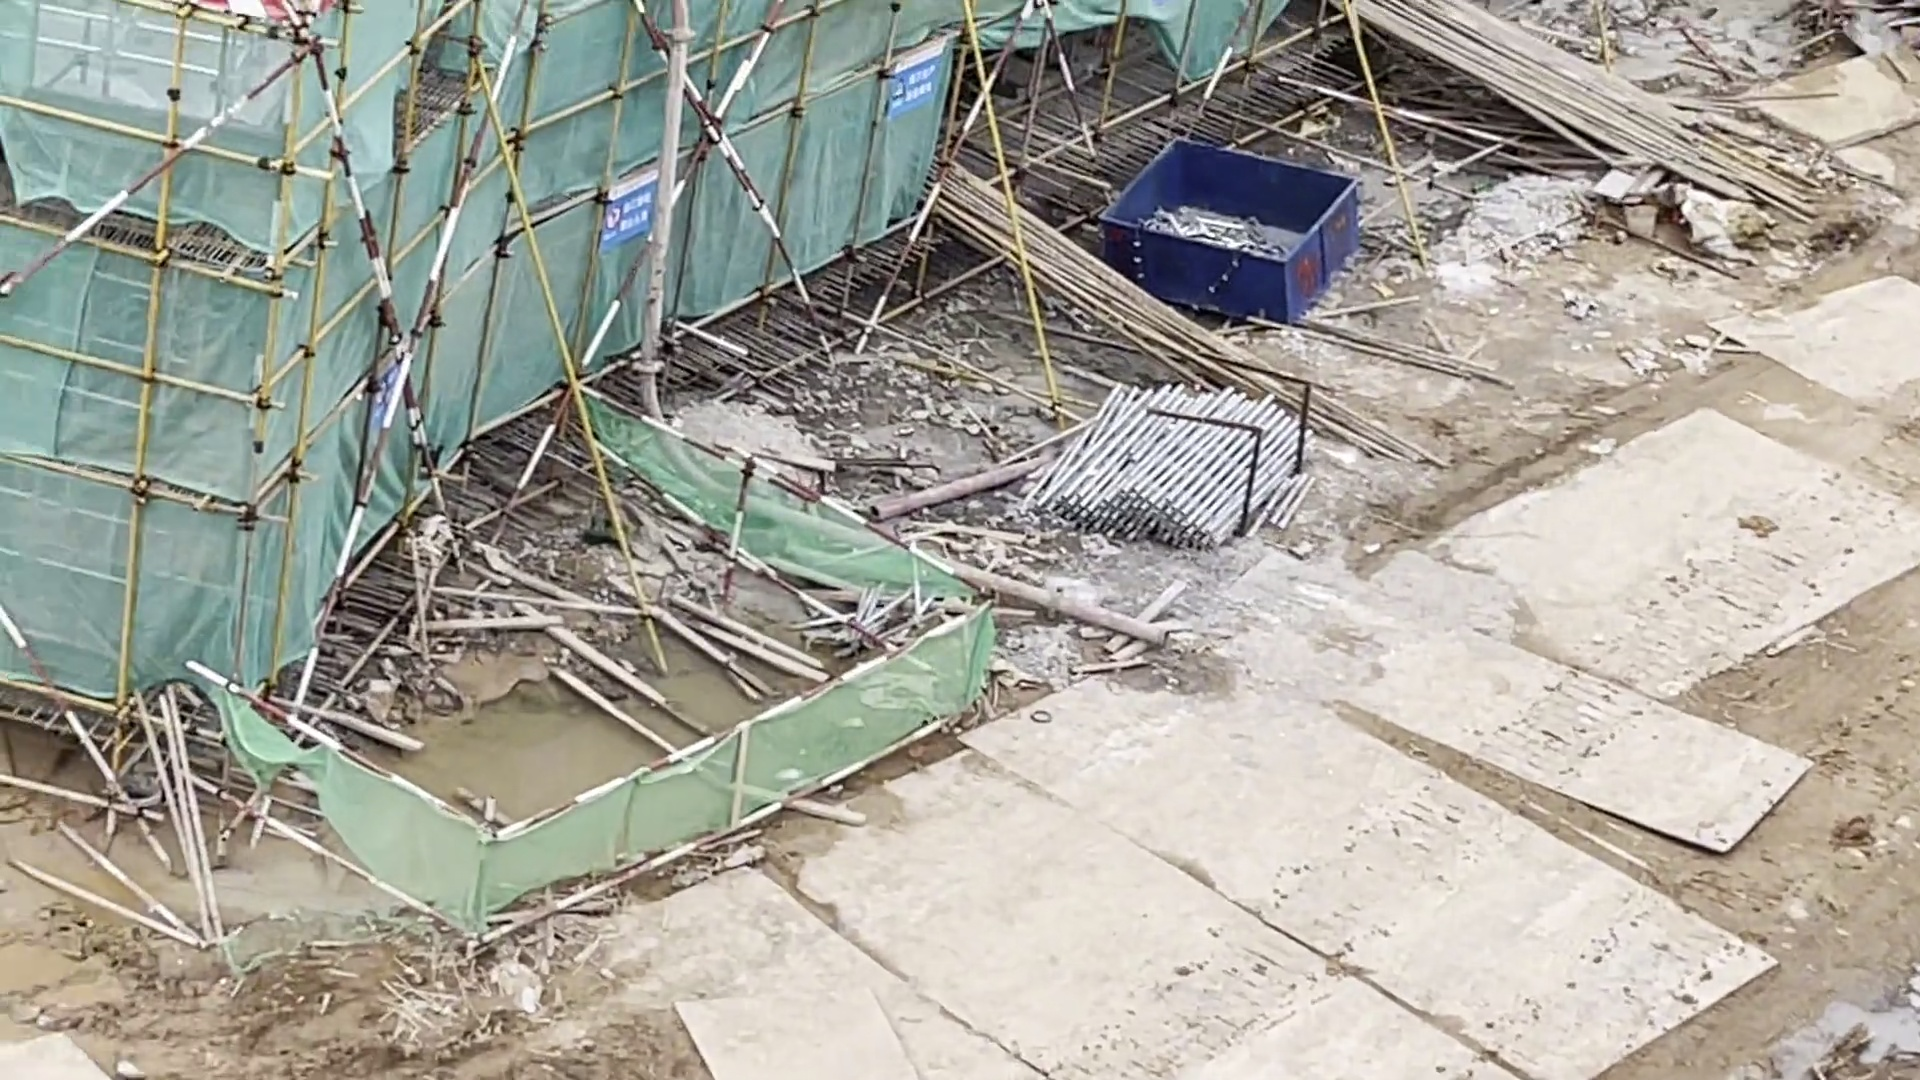hopper: (1083, 123, 1366, 335)
scaffold: (1039, 385, 1317, 551)
slogan: (880, 47, 943, 117), (603, 171, 657, 247)
